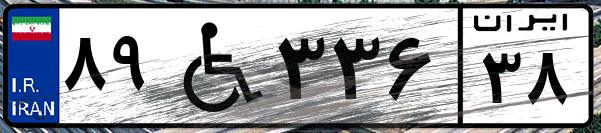3: (270, 28, 330, 110), (330, 28, 385, 110), (475, 38, 525, 113)
6: (385, 28, 445, 110)
8: (57, 26, 110, 100), (525, 38, 570, 115)
9: (110, 28, 158, 98)
ژ (معلولین و جانبازان): (158, 12, 270, 120)
